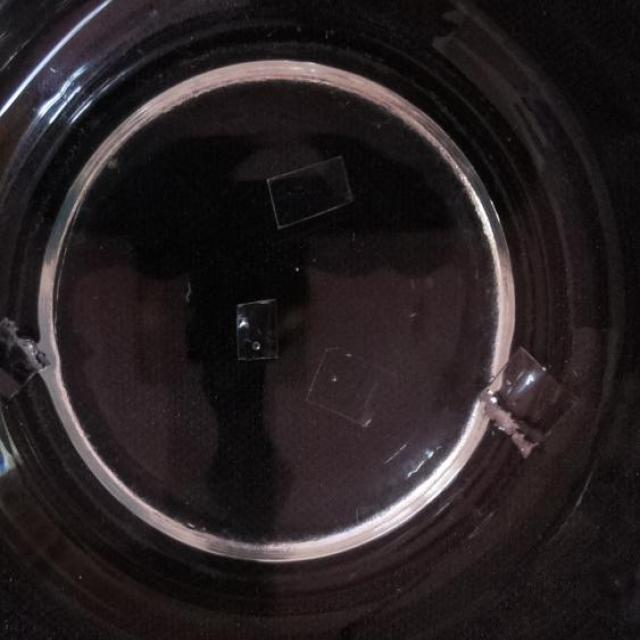fiber: (480, 346, 580, 461), (264, 150, 355, 233), (306, 346, 395, 428), (0, 313, 51, 401), (231, 295, 276, 362), (0, 401, 27, 491)
